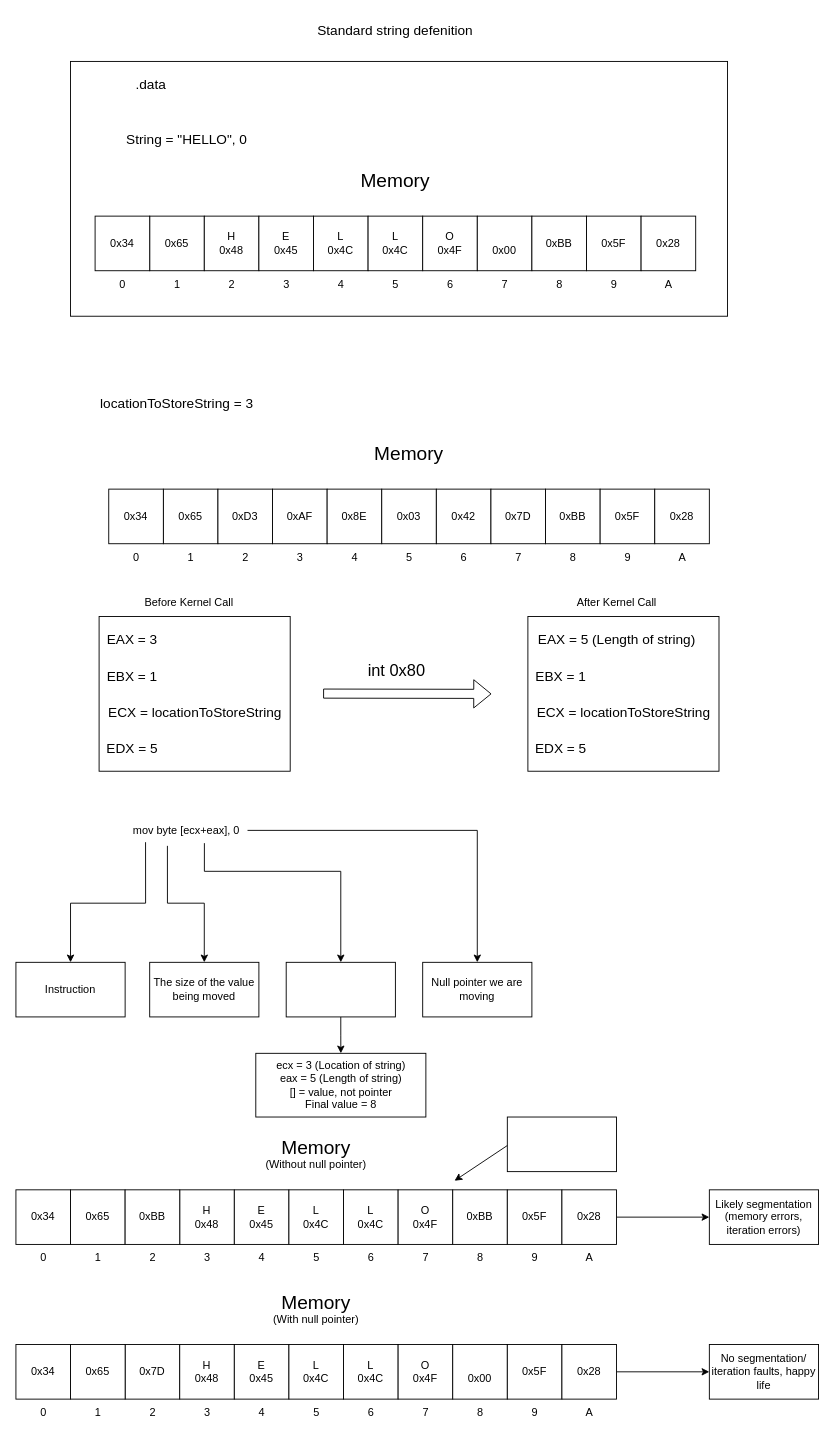
Some shapes in this 834 by 1441 pixel diagram are drawn without their labels. The shapes that lost their labels are listed below. From the top down, each one's box as (x1, y1, x2, y2) in pixels, then its label:
(285, 961, 395, 1017): Location we are moving the value to
(506, 1116, 617, 1172): No clear end of string
